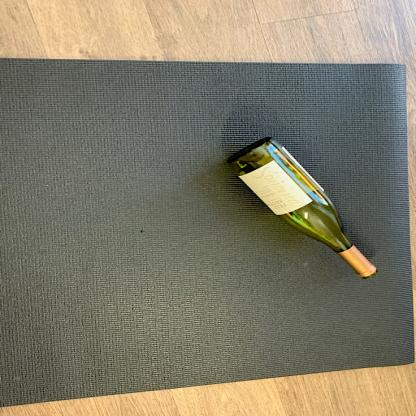trash: (224, 135, 381, 283)
